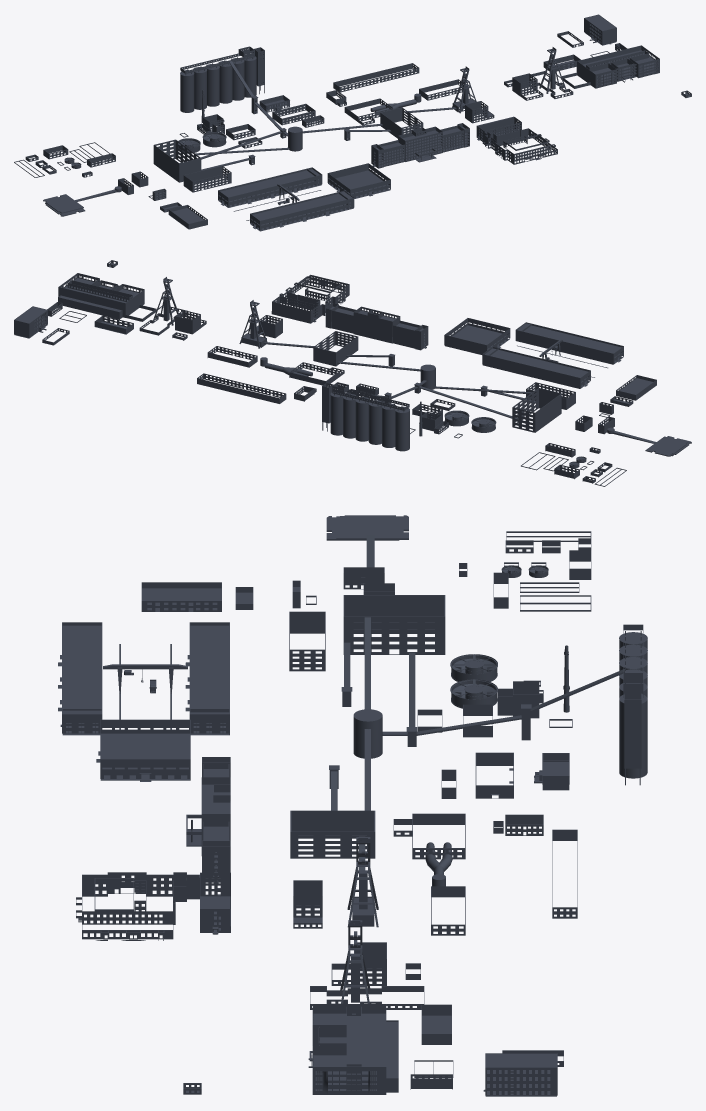
3 renders of one model, top to bottom at view 1: azimuth 30°, elevation 25°; view 2: azimuth 150°, elevation 25°; view 3: azimuth 270°, elevation 25°, orthographic. The views are drawn at different scales.
Parts seen in each view (by area): view 1: JZ-001-002, JZ-001, JZ-001-003, JZ-001-001, JZ-001-004; view 2: JZ-001-002, JZ-001, JZ-001-001, JZ-001-003, JZ-001-004; view 3: JZ-001-002, JZ-001, JZ-001-001, JZ-001-003, JZ-001-004.
Part boxes in pixels (left/top/right/bottom): JZ-001-002: left=160, top=116, right=557, bottom=231; JZ-001: left=153, top=46, right=302, bottom=192; JZ-001-003: left=259, top=63, right=494, bottom=140; JZ-001-001: left=504, top=14, right=691, bottom=100; JZ-001-004: left=14, top=142, right=166, bottom=216; JZ-001-002: left=271, top=274, right=656, bottom=406; JZ-001: left=322, top=364, right=575, bottom=451; JZ-001-001: left=14, top=260, right=206, bottom=345; JZ-001-003: left=197, top=300, right=420, bottom=403; JZ-001-004: left=521, top=402, right=691, bottom=486; JZ-001-002: left=58, top=582, right=253, bottom=940; JZ-001: left=289, top=595, right=647, bottom=785; JZ-001-001: left=183, top=920, right=563, bottom=1096; JZ-001-003: left=290, top=729, right=577, bottom=935; JZ-001-004: left=292, top=515, right=591, bottom=611.
Bounding box in the file's own units: 807 × 62.21 × 346.
